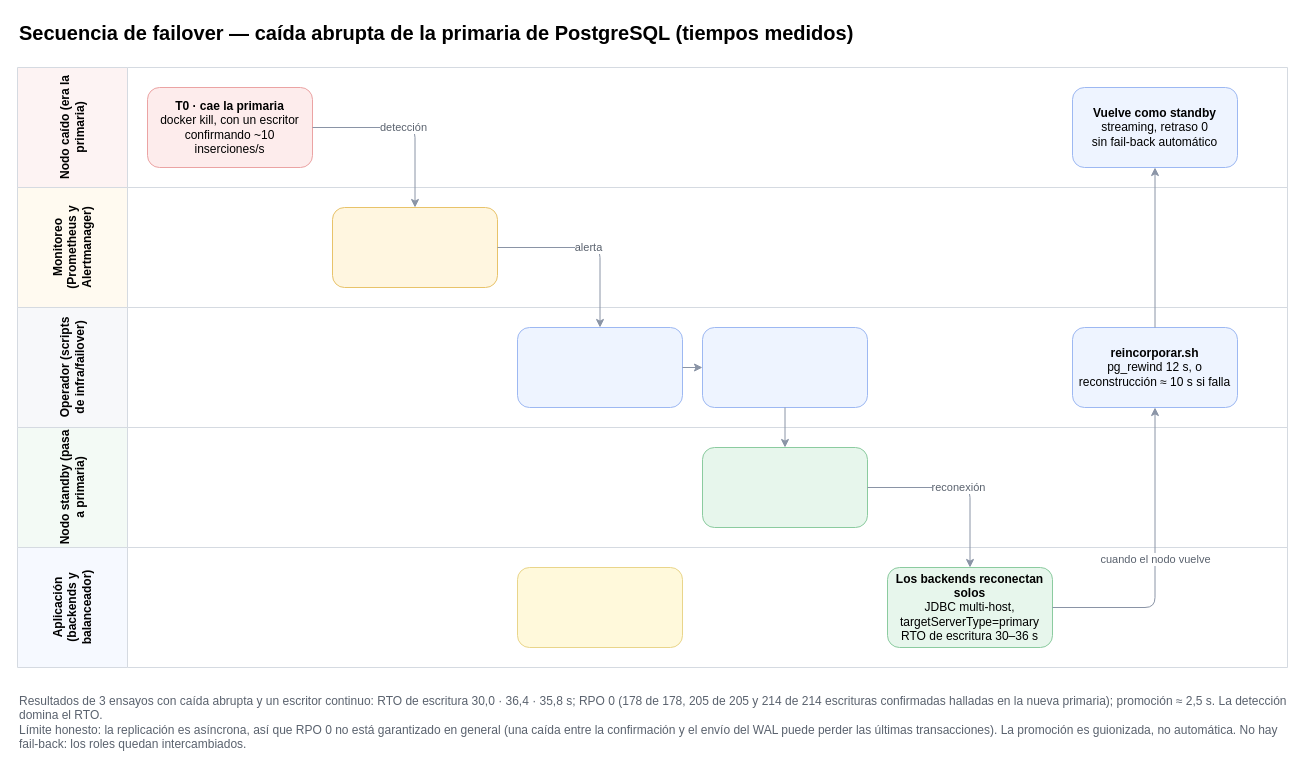
This 1305x769 diagram has some shape labels left out. The shapes that lost their labels are listed below. From the top down, each one's centre as x and y in pixels, then its label:
pixel 415 247: T0 + 27–34 s Alerta PostgresCaido (for 20 s) = 85–90 % del RTO
pixel 599 367: aislar.sh · fencing restart=no + stop en el nodo caído (evita split-brain)
pixel 785 367: promover.sh comprobaciones, pg_promote y CHECKPOINT ≈ 2,5 s
pixel 785 487: Nueva primaria nueva línea de tiempo RPO 0 en los 3 ensayos
pixel 599 607: Balanceador y sondas 13–18 de ~70 sondas distintas de 200 durante la ventana
